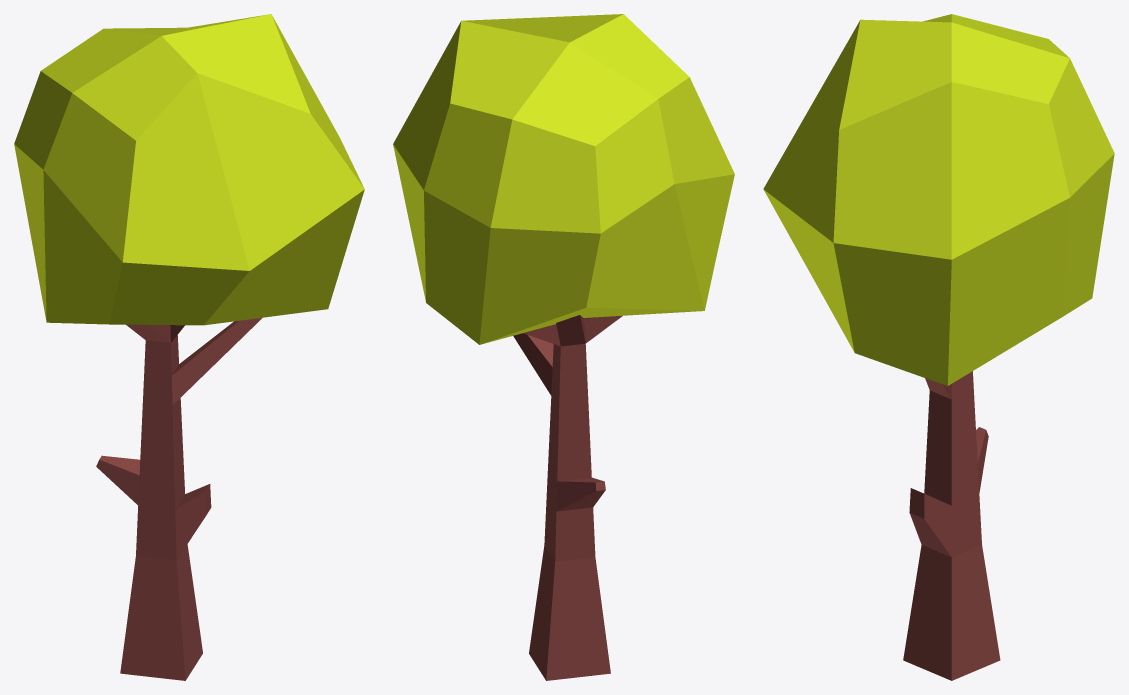
The model's file is tree2.fbx.
The picture shows the model from 3 angles, left to right: view 1: azimuth 30°, elevation 25°; view 2: azimuth 150°, elevation 25°; view 3: azimuth 270°, elevation 25°; orthographic projection. The views are drawn at different scales.
Visible parts, largest first — view 1: Cube.001, Cube; view 2: Cube.001, Cube; view 3: Cube.001, Cube.
Part boxes in pixels (<box>): Cube.001: <box>14,14,364,325</box>; Cube: <box>96,317,262,680</box>; Cube.001: <box>393,14,734,344</box>; Cube: <box>513,315,622,680</box>; Cube.001: <box>763,14,1114,385</box>; Cube: <box>903,371,1000,680</box>.
Size of the model in its own units: 1389 by 2738 by 1367.
